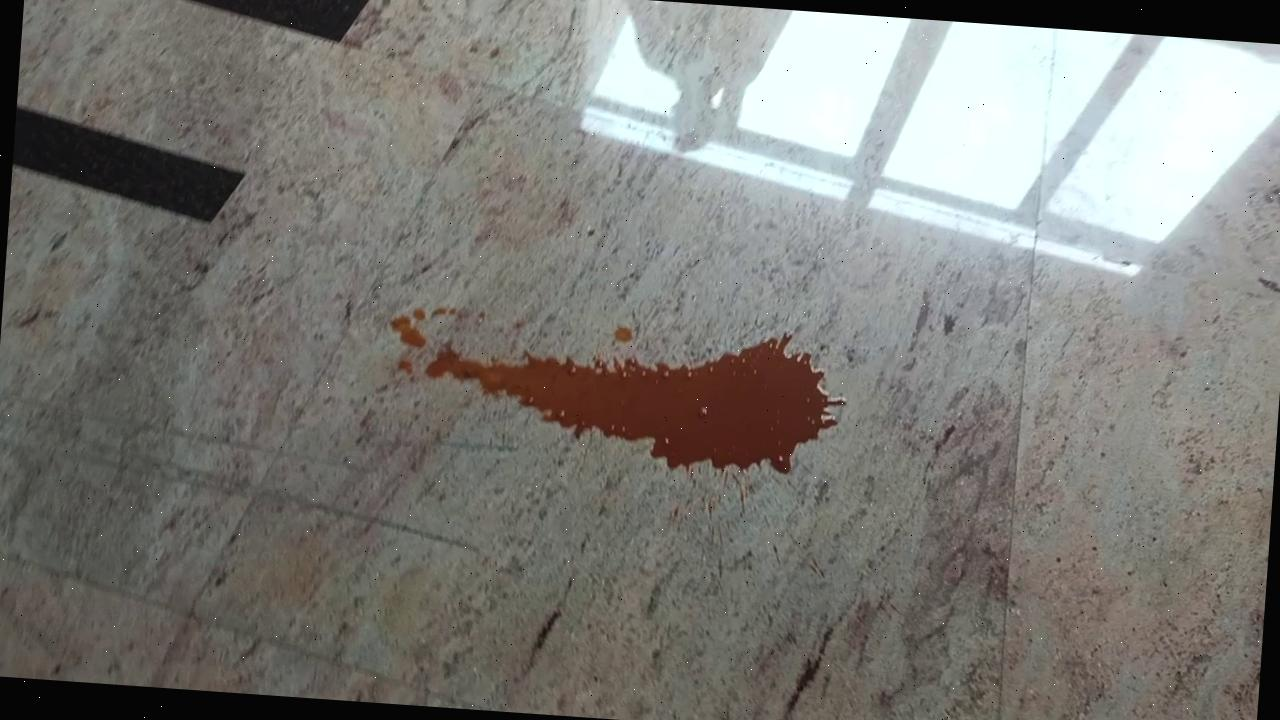dirty_floor: (388, 303, 847, 481)
